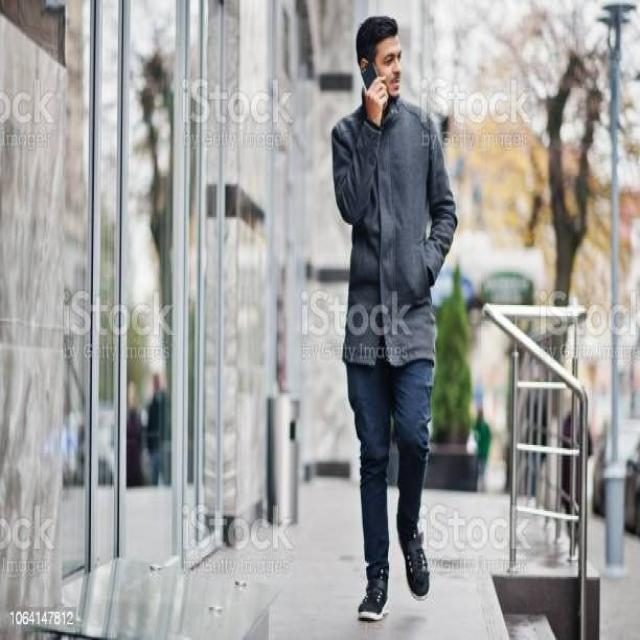jovem: (324, 24, 457, 627)
